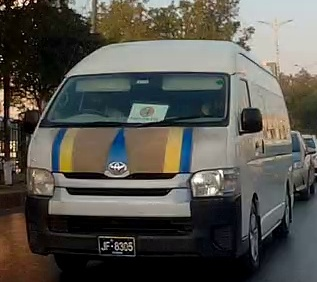van: (24, 39, 293, 273)
